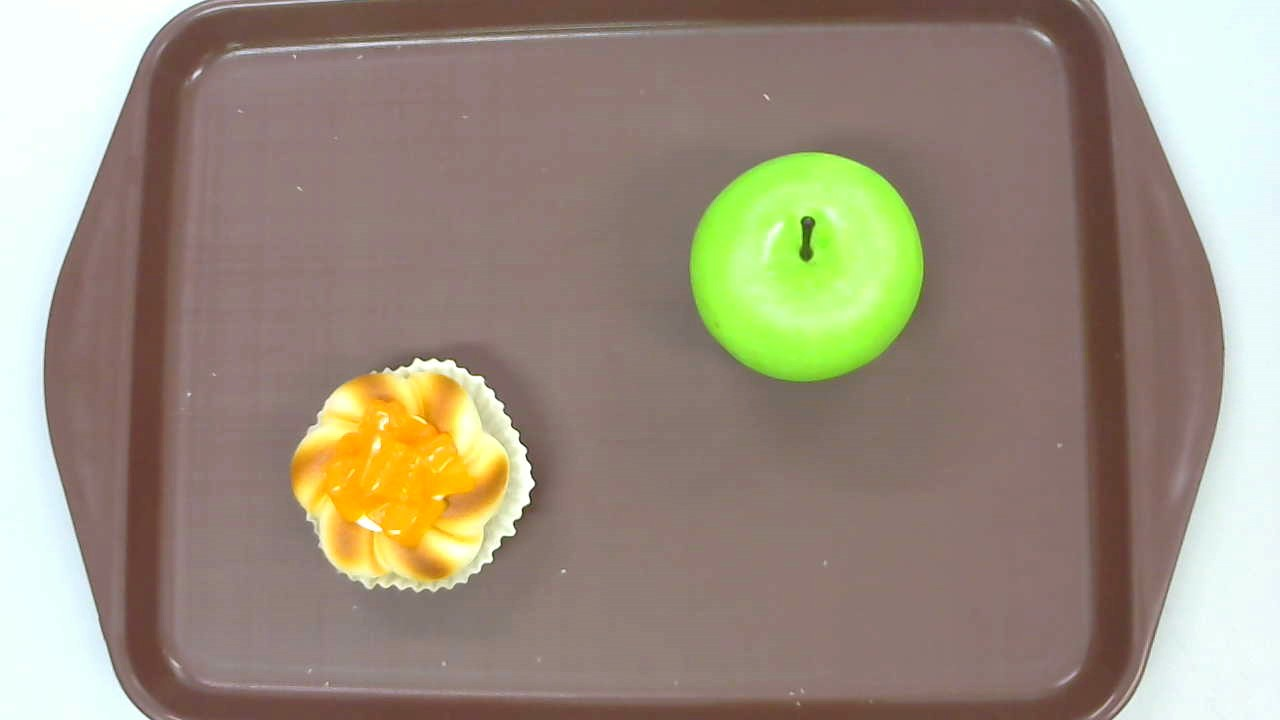green apple: (688, 153, 923, 383)
mango tart: (290, 357, 536, 595)
